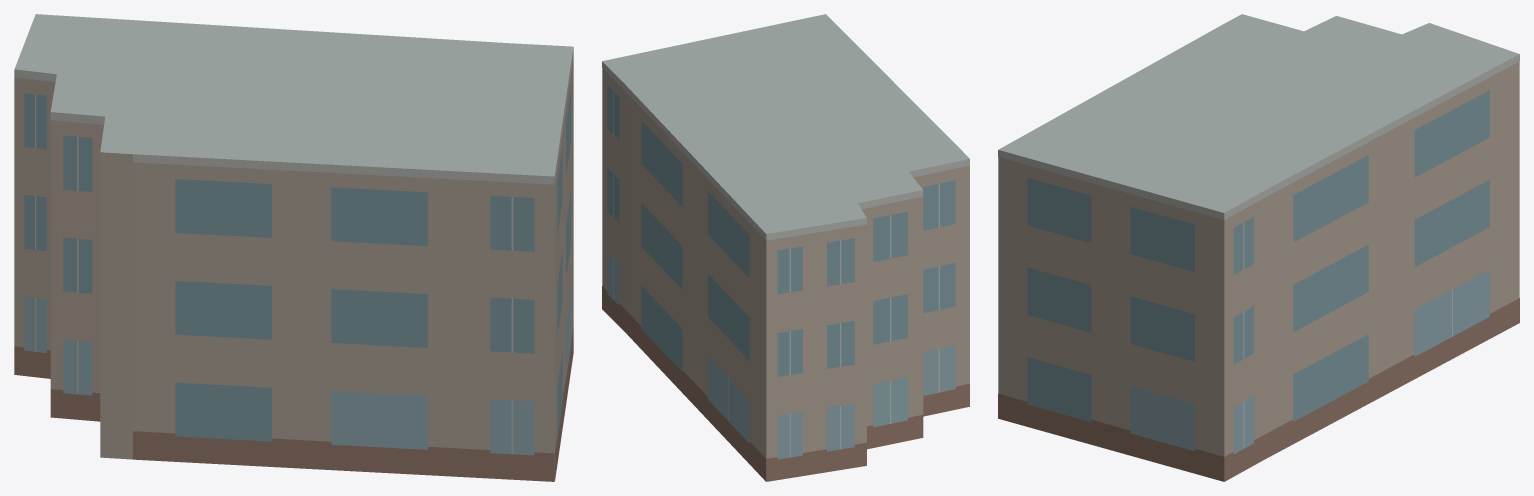
File: survey-upis-32717487.glb
3 renders of one model, left to right at view 1: azimuth 30°, elevation 25°; view 2: azimuth 150°, elevation 25°; view 3: azimuth 270°, elevation 25°, orthographic. The views are drawn at different scales.
Parts seen in each view (by area): view 1: survey-upis-32717487.tmp; view 2: survey-upis-32717487.tmp; view 3: survey-upis-32717487.tmp.
Boxes of the visible parts, x1,y1,x2,y2 form: survey-upis-32717487.tmp: [14, 14, 573, 481]; survey-upis-32717487.tmp: [602, 14, 969, 481]; survey-upis-32717487.tmp: [998, 14, 1519, 481].
Bounding box in the file's own units: 14.54 × 9.15 × 16.1.
